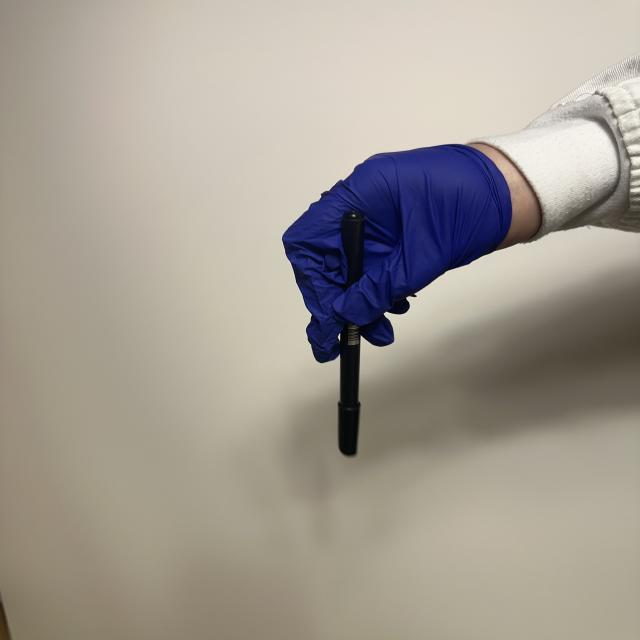glove_partial: (276, 140, 547, 364)
